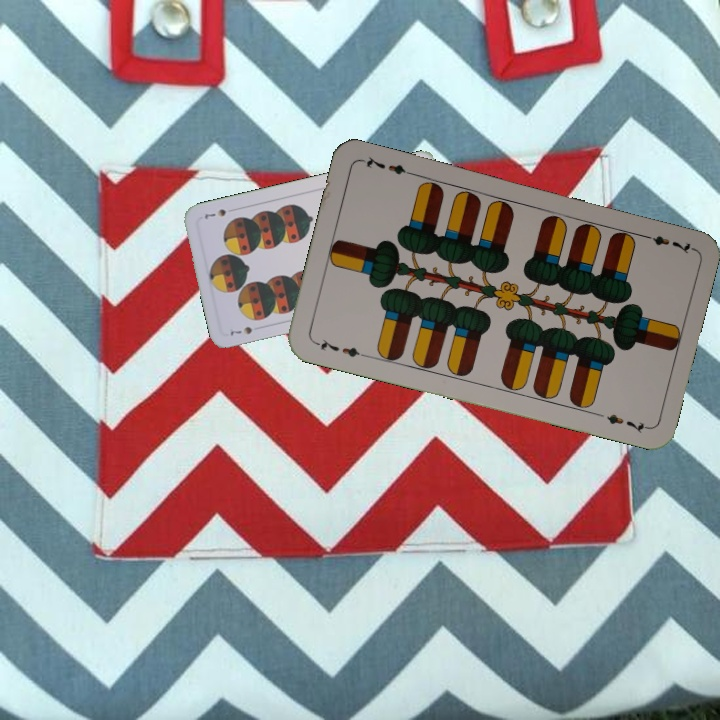E7: (637, 230, 695, 257), (310, 334, 369, 360)
S7: (226, 322, 255, 339)
